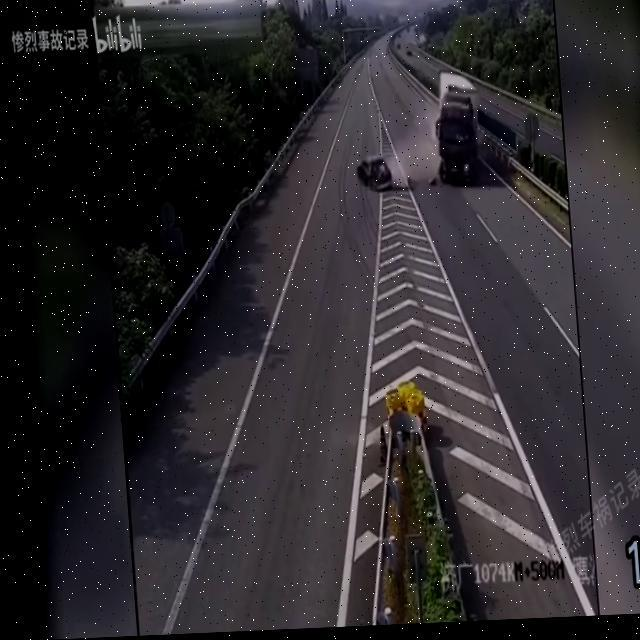normal: (428, 61, 503, 204)
single accident: (330, 117, 420, 208)
